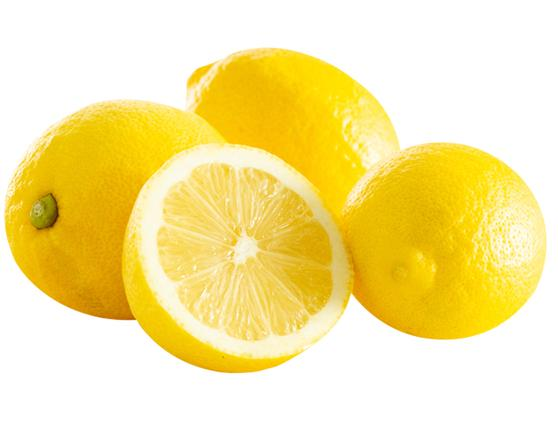lemon: (3, 110, 229, 330)
